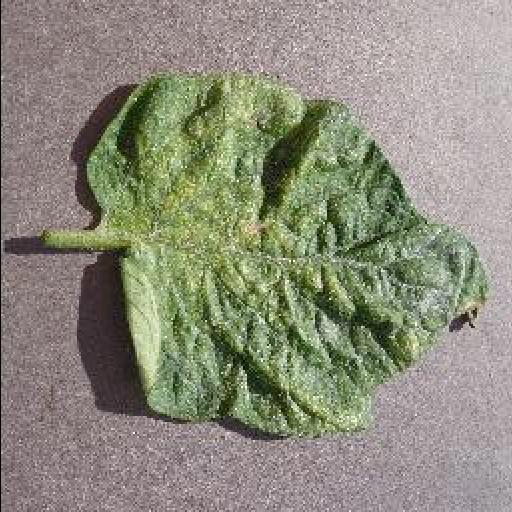disease_tomato: (82, 78, 488, 440)
